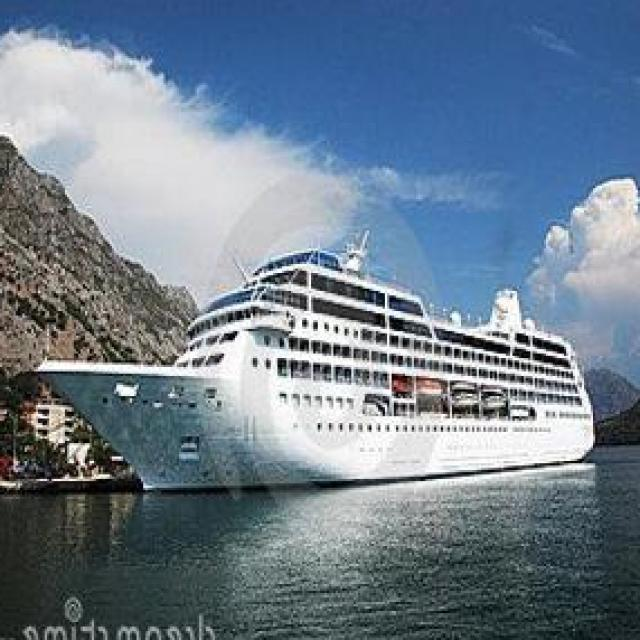passenger ship: (40, 252, 600, 494)
